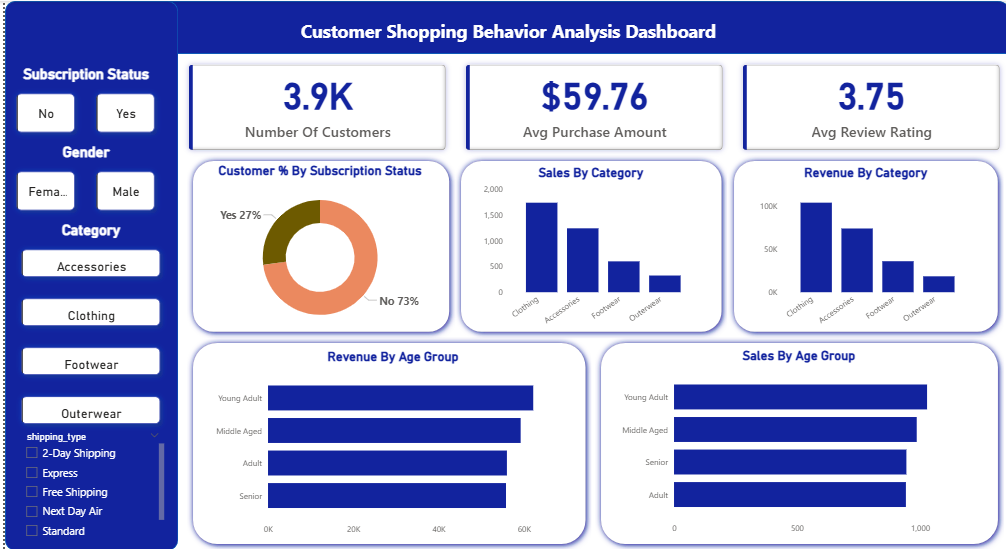

Layout of this report page (visuals, bound fields, positions):
{"tool":"powerbi","page":{"name":"Page 1","canvas":[1500,820],"ordinal":0},"visuals":[{"type":"cardVisual","fields":{"Data":["_Key_Measures.Number Of Customers","_Key_Measures.Avg Purchase Amount","_Key_Measures.Avg Review Rating"]},"box":[258.1,79,1241.9,159.7],"z":0},{"type":"shape","box":[0,0,1500,79],"z":1000},{"type":"textbox","box":[109.7,21,1280.6,150],"z":2000},{"type":"shape","box":[271,229,400,272.6],"z":3000},{"type":"donutChart","title":"Customer % By Subscription Status","fields":{"Category":["customer_shopping_behavior.subscription_status"],"Y":["CountNonNull(customer_shopping_behavior.customer_id)"]},"box":[280.6,241.9,379,259.7],"z":4000},{"type":"shape","box":[271,501.6,603.2,317.7],"z":5000},{"type":"shape","box":[671,229,406.5,272.6],"z":6000},{"type":"shape","box":[1077.4,229,411.3,272.6],"z":7000},{"type":"clusteredColumnChart","title":"Revenue By Category","fields":{"Y":["Sum(customer_shopping_behavior.purchase_amount)"],"Category":["customer_shopping_behavior.category"]},"box":[1119.4,245.2,327.4,259.7],"z":8000},{"type":"clusteredColumnChart","title":"Sales By Category","fields":{"Category":["customer_shopping_behavior.category"],"Y":["CountNonNull(customer_shopping_behavior.customer_id)"]},"box":[708.1,245.2,330.6,259.7],"z":9000},{"type":"shape","box":[0,0,258.1,819.4],"z":10000},{"type":"advancedSlicerVisual","title":"Subscription Status","fields":{"Values":["customer_shopping_behavior.subscription_status"]},"box":[0,96.8,241.9,116.1],"z":10001},{"type":"advancedSlicerVisual","title":"Gender","fields":{"Values":["customer_shopping_behavior.gender"]},"box":[0,212.9,241.9,116.1],"z":10002},{"type":"advancedSlicerVisual","title":"Category","fields":{"Values":["customer_shopping_behavior.category"]},"box":[8.1,329,241.9,319.4],"z":10003},{"type":"slicer","fields":{"Values":["customer_shopping_behavior.shipping_type"]},"box":[19.4,637.1,222.6,169.4],"z":10004},{"type":"clusteredBarChart","title":"Revenue By Age Group","fields":{"Y":["Sum(customer_shopping_behavior.purchase_amount)"],"Category":["customer_shopping_behavior.age_group"]},"box":[304.8,519.4,548.4,287.1],"z":10005},{"type":"shape","box":[879,501.6,609.7,317.7],"z":10006},{"type":"clusteredBarChart","title":"Sales By Age Group","fields":{"Category":["customer_shopping_behavior.age_group"],"Y":["CountNonNull(customer_shopping_behavior.customer_id)"]},"box":[909.7,517.7,548.4,287.1],"z":10007}]}

Visuals, with their boxes in screenshot pixels (x1, y1, x2, y2), scaled from the page's 1500x820 canvas onto the 1006x549 screenshot:
cardVisual - _Key_Measures.Number Of Customers x _Key_Measures.Avg Purchase Amount: 173 53 1005 160
shape: 0 0 1005 53
textbox: 74 14 932 114
shape: 182 153 450 336
"Customer % By Subscription Status" donutChart: 188 162 442 336
shape: 182 336 586 548
shape: 450 153 723 336
shape: 723 153 998 336
"Revenue By Category" clusteredColumnChart: 751 164 970 338
"Sales By Category" clusteredColumnChart: 475 164 697 338
shape: 0 0 173 548
"Subscription Status" advancedSlicerVisual: 0 65 162 143
"Gender" advancedSlicerVisual: 0 143 162 220
"Category" advancedSlicerVisual: 5 220 168 434
slicer - customer_shopping_behavior.shipping_type: 13 427 162 540
"Revenue By Age Group" clusteredBarChart: 204 348 572 540
shape: 590 336 998 548
"Sales By Age Group" clusteredBarChart: 610 347 978 539
